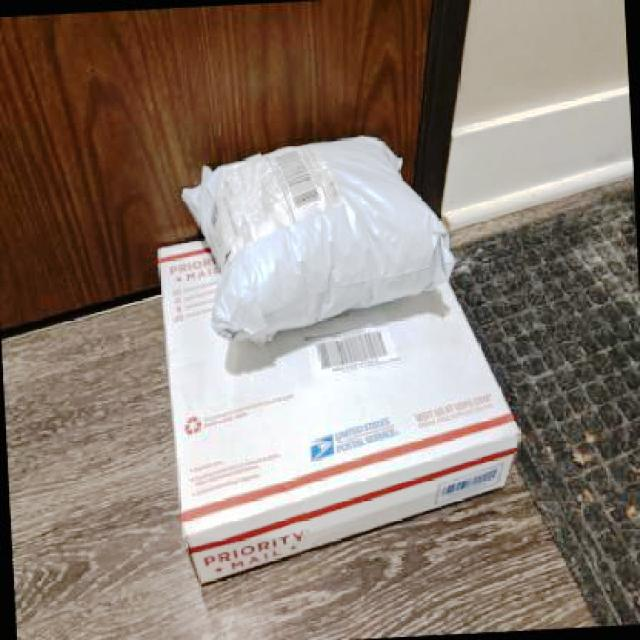Box: (153, 211, 529, 591), (173, 128, 461, 352)
